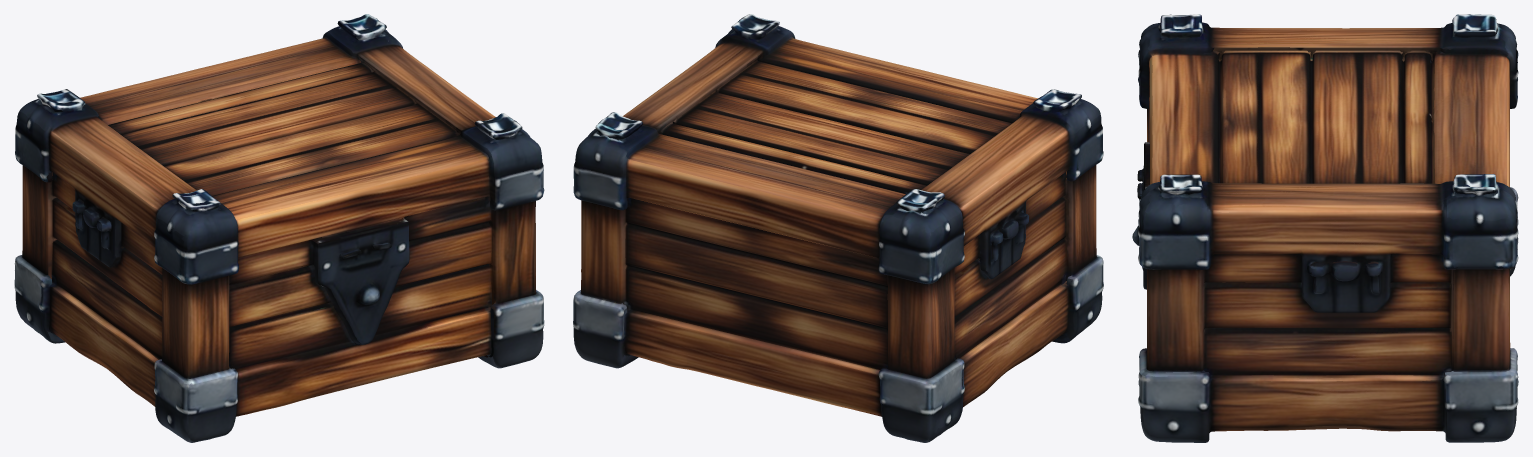
The model's file is caja_armas.glb.
The picture shows the model from 3 angles, left to right: view 1: azimuth 30°, elevation 25°; view 2: azimuth 150°, elevation 25°; view 3: azimuth 270°, elevation 25°; orthographic projection. The views are drawn at different scales.
Visible parts, largest first — view 1: tmp3lwsa9yz.ply; view 2: tmp3lwsa9yz.ply; view 3: tmp3lwsa9yz.ply.
Boxes of the visible parts, x1,y1,x2,y2 form: tmp3lwsa9yz.ply: (14, 14, 544, 442); tmp3lwsa9yz.ply: (573, 14, 1103, 442); tmp3lwsa9yz.ply: (1132, 14, 1518, 442).
Bounding box in the file's own units: 2 × 1.22 × 1.67.
Materials: 1 (1 with a texture image).
